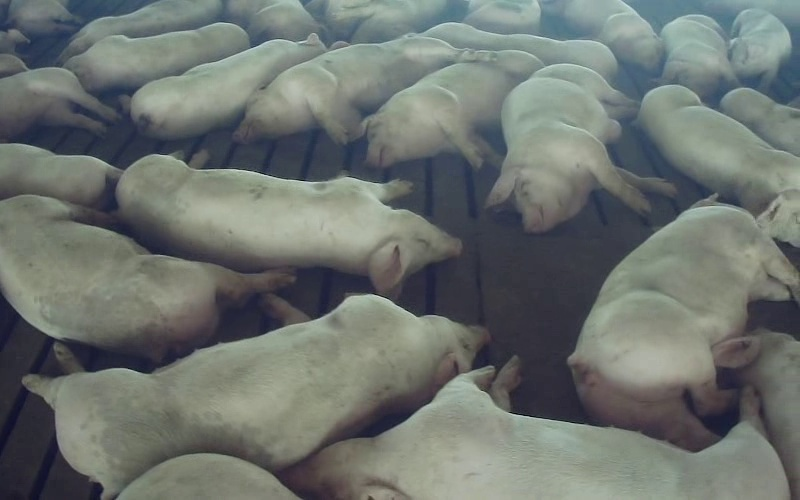pig: (23, 295, 487, 497), (281, 357, 788, 499), (568, 201, 799, 449), (116, 150, 461, 295), (486, 64, 675, 232), (233, 36, 491, 143), (638, 85, 799, 246), (120, 33, 325, 139), (365, 51, 542, 168), (712, 329, 799, 499), (64, 23, 249, 93), (418, 22, 617, 81), (541, 0, 663, 71), (0, 68, 119, 140), (660, 14, 738, 100), (720, 88, 799, 156), (729, 8, 791, 92)
